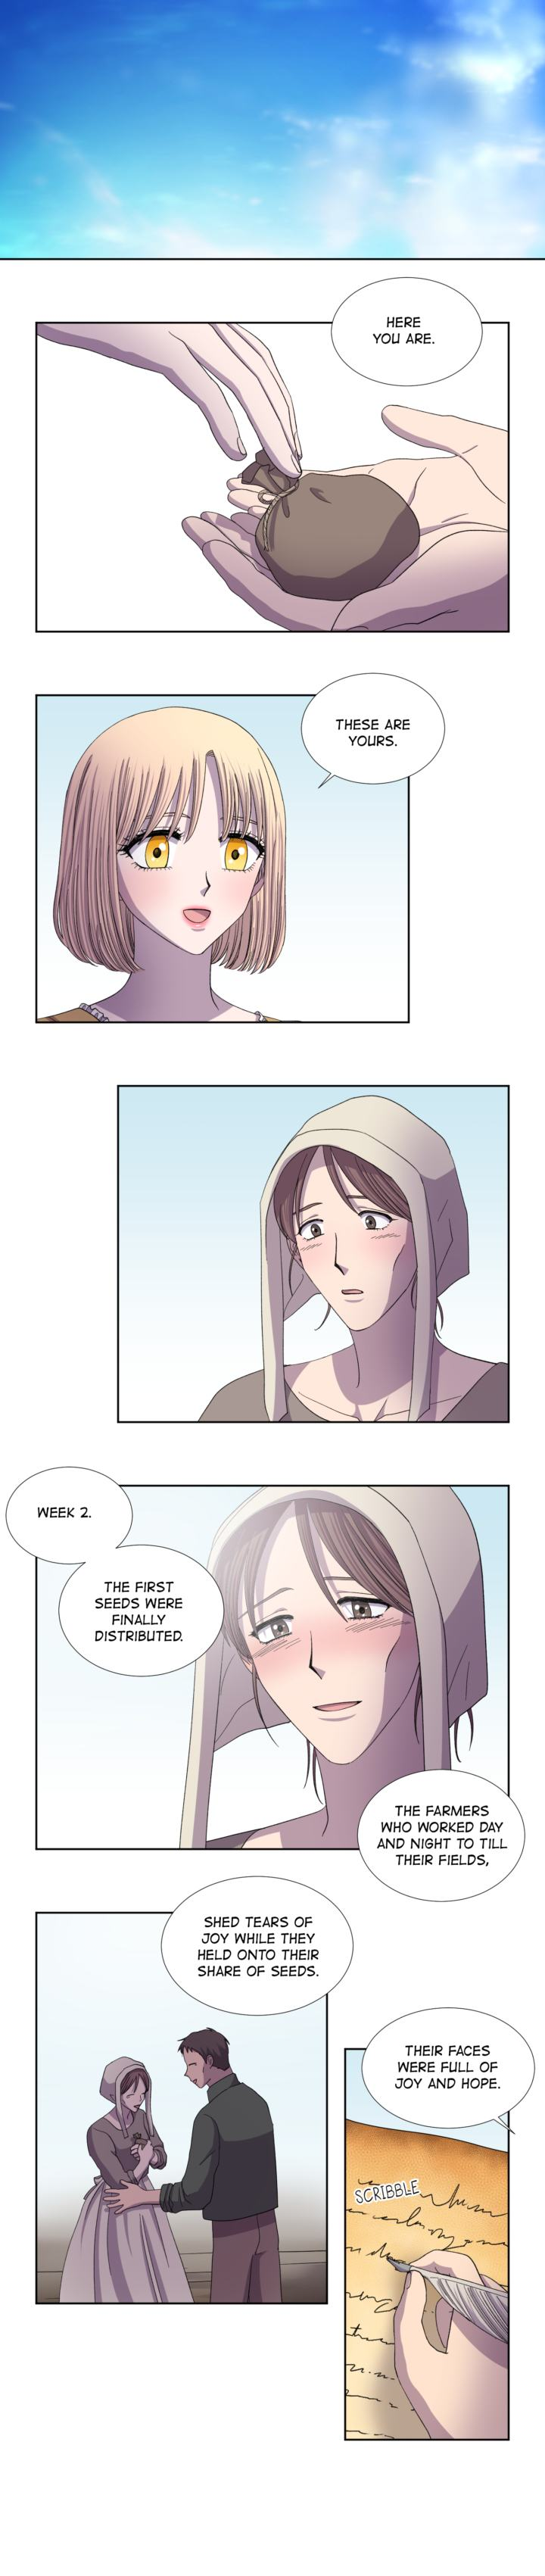frame: (5, 1467, 525, 1902), (34, 276, 511, 632), (36, 672, 447, 1023), (36, 1876, 355, 2305), (117, 1084, 509, 1423), (343, 2008, 535, 2440)
